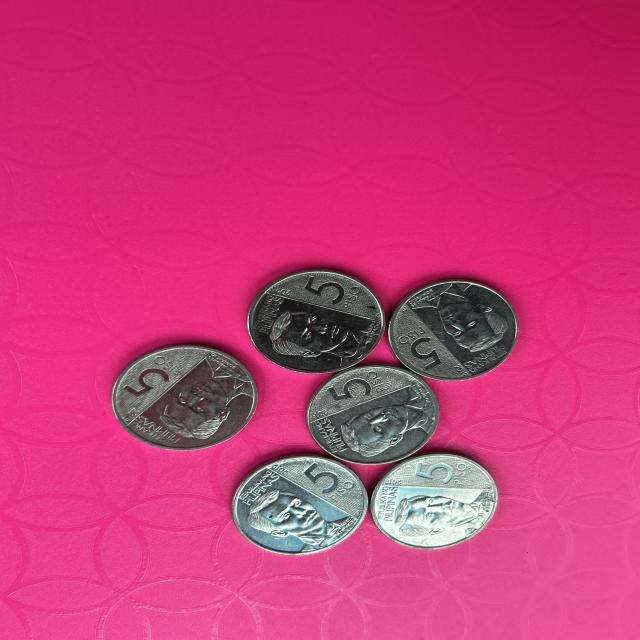5_New_Front: (289, 456, 355, 503), (295, 271, 367, 314), (403, 454, 487, 490), (392, 323, 452, 372), (120, 354, 184, 398), (324, 374, 395, 404)
